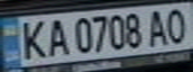0: (69, 15, 93, 54), (106, 11, 127, 51)
7: (90, 12, 109, 52)
8: (124, 10, 145, 48)
A: (42, 16, 69, 58), (145, 7, 172, 47)
K: (15, 17, 48, 61)
O: (163, 6, 190, 44)
